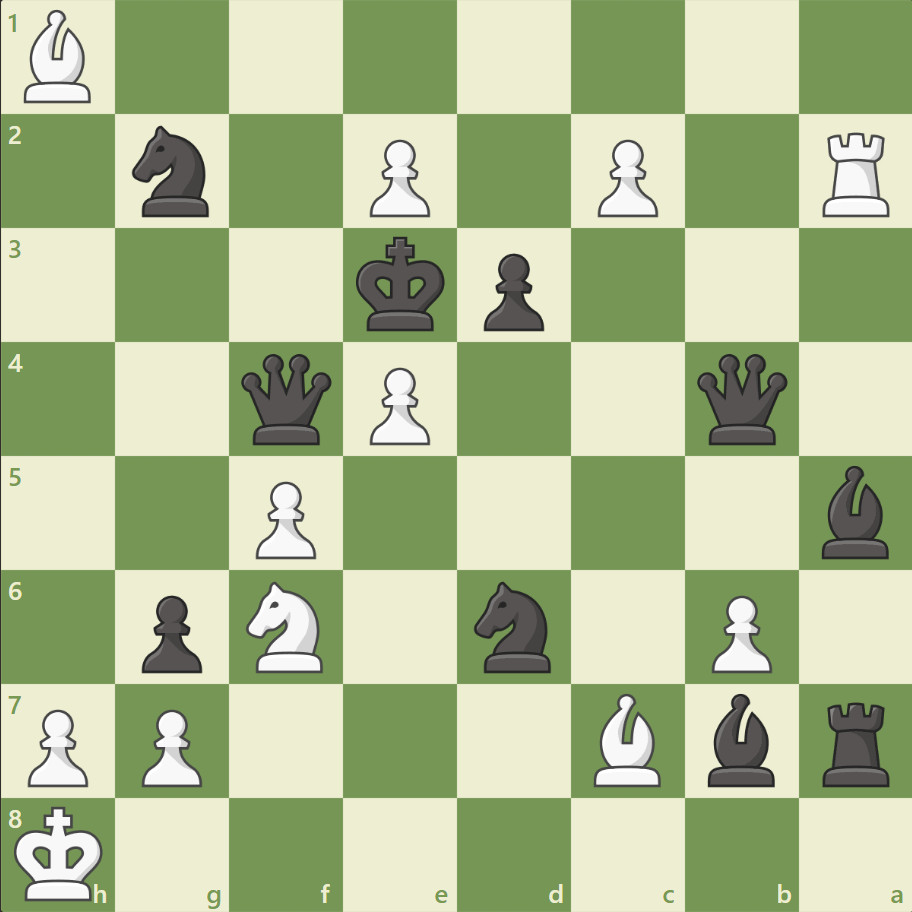B: (585, 687, 669, 790), (17, 6, 101, 109)
K: (11, 798, 111, 906)
N: (238, 575, 335, 677)
P: (133, 700, 208, 791), (20, 700, 95, 791), (701, 586, 776, 677), (247, 473, 322, 564), (361, 359, 435, 450), (588, 132, 662, 223), (361, 132, 435, 223)
R: (814, 125, 897, 222)
b: (698, 687, 782, 790), (812, 460, 896, 563)
k: (351, 231, 451, 339)
n: (124, 121, 222, 223), (465, 575, 562, 677)
p: (133, 586, 208, 677), (474, 246, 549, 337)
q: (691, 349, 790, 449), (237, 349, 336, 449)
r: (814, 693, 897, 790)
